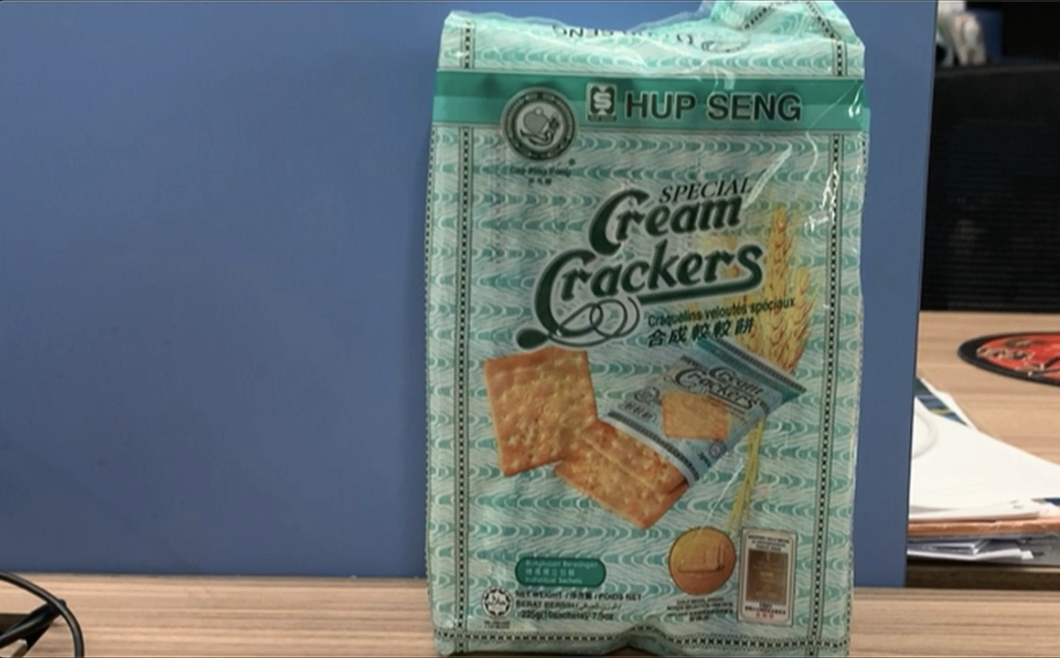crackers_200g-299g: (475, 77, 828, 641)
